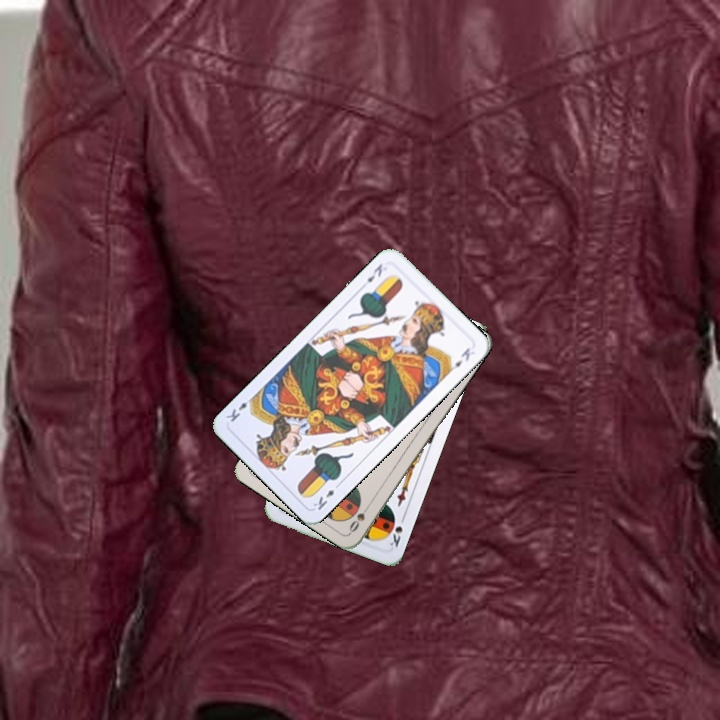EK: (309, 479, 343, 513), (363, 259, 385, 285)
SK: (385, 511, 408, 550)
SO: (345, 499, 374, 535)
